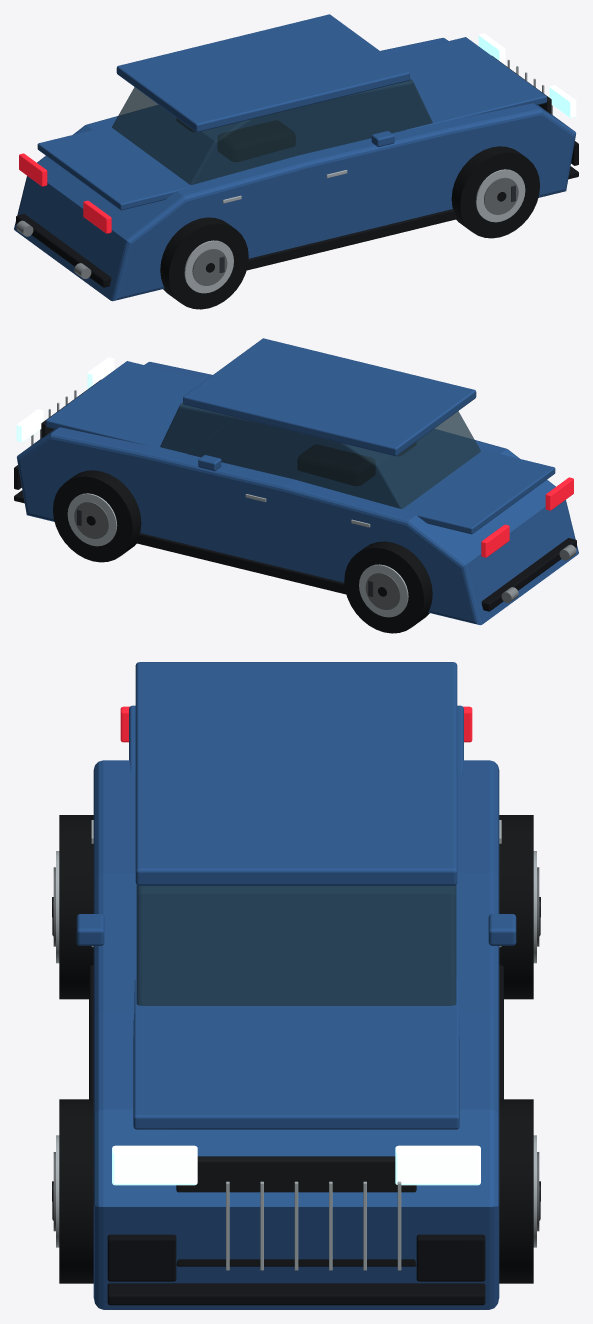
Rendered from ford_bronco.glb.
The picture shows the model from 3 angles, top to bottom: view 1: azimuth 30°, elevation 25°; view 2: azimuth 150°, elevation 25°; view 3: azimuth 270°, elevation 25°; orthographic projection. The views are drawn at different scales.
Parts seen in each view (by area): view 1: sculpted_body, roof, glasshouse, hood_center, rear_deck, rear_right_wheel_tire, front_right_wheel_tire, side_skirt_1, seat_1, rear_diffuser, rear_right_wheel_rim, front_right_wheel_rim (+6 smaller); view 2: sculpted_body, roof, glasshouse, hood_center, rear_deck, rear_left_wheel_tire, front_left_wheel_tire, side_skirt_-1, seat_-1, rear_diffuser, rear_left_wheel_rim, front_left_wheel_rim (+6 smaller); view 3: sculpted_body, roof, hood_center, glasshouse, front_grille, front_splitter, front_left_wheel_tire, front_right_wheel_tire, rear_left_wheel_tire, rear_right_wheel_tire, headlight_right, headlight_left (+5 smaller).
Part boxes in pixels (bbox=[...]): sculpted_body: bbox=[14, 38, 576, 301]; roof: bbox=[116, 14, 409, 132]; glasshouse: bbox=[112, 78, 432, 184]; hood_center: bbox=[358, 37, 546, 129]; rear_deck: bbox=[37, 126, 190, 210]; rear_right_wheel_tire: bbox=[160, 217, 248, 309]; front_right_wheel_tire: bbox=[451, 146, 539, 238]; side_skirt_1: bbox=[246, 209, 457, 270]; seat_1: bbox=[218, 121, 294, 161]; rear_diffuser: bbox=[16, 214, 111, 287]; rear_right_wheel_rim: bbox=[184, 240, 233, 293]; front_right_wheel_rim: bbox=[475, 169, 525, 222]; sculpted_body: bbox=[16, 362, 578, 625]; roof: bbox=[183, 338, 476, 456]; glasshouse: bbox=[160, 402, 480, 508]; hood_center: bbox=[46, 361, 234, 453]; rear_deck: bbox=[402, 450, 555, 534]; rear_left_wheel_tire: bbox=[344, 541, 432, 633]; front_left_wheel_tire: bbox=[53, 470, 141, 562]; side_skirt_-1: bbox=[135, 533, 346, 594]; seat_-1: bbox=[298, 445, 374, 485]; rear_diffuser: bbox=[481, 538, 576, 611]; rear_left_wheel_rim: bbox=[359, 564, 408, 617]; front_left_wheel_rim: bbox=[67, 493, 117, 546]; sculpted_body: bbox=[93, 760, 499, 1309]; roof: bbox=[135, 662, 457, 885]; hood_center: bbox=[133, 979, 459, 1129]; glasshouse: bbox=[136, 885, 456, 1005]; front_grille: bbox=[176, 1156, 416, 1266]; front_splitter: bbox=[107, 1283, 485, 1305]; front_left_wheel_tire: bbox=[499, 1099, 533, 1283]; front_right_wheel_tire: bbox=[59, 1099, 93, 1283]; rear_left_wheel_tire: bbox=[499, 815, 533, 999]; rear_right_wheel_tire: bbox=[59, 815, 93, 999]; headlight_right: bbox=[112, 1145, 197, 1185]; headlight_left: bbox=[395, 1145, 480, 1185].
Bounding box in the file's own units: 5.24 × 1.73 × 2.28.
